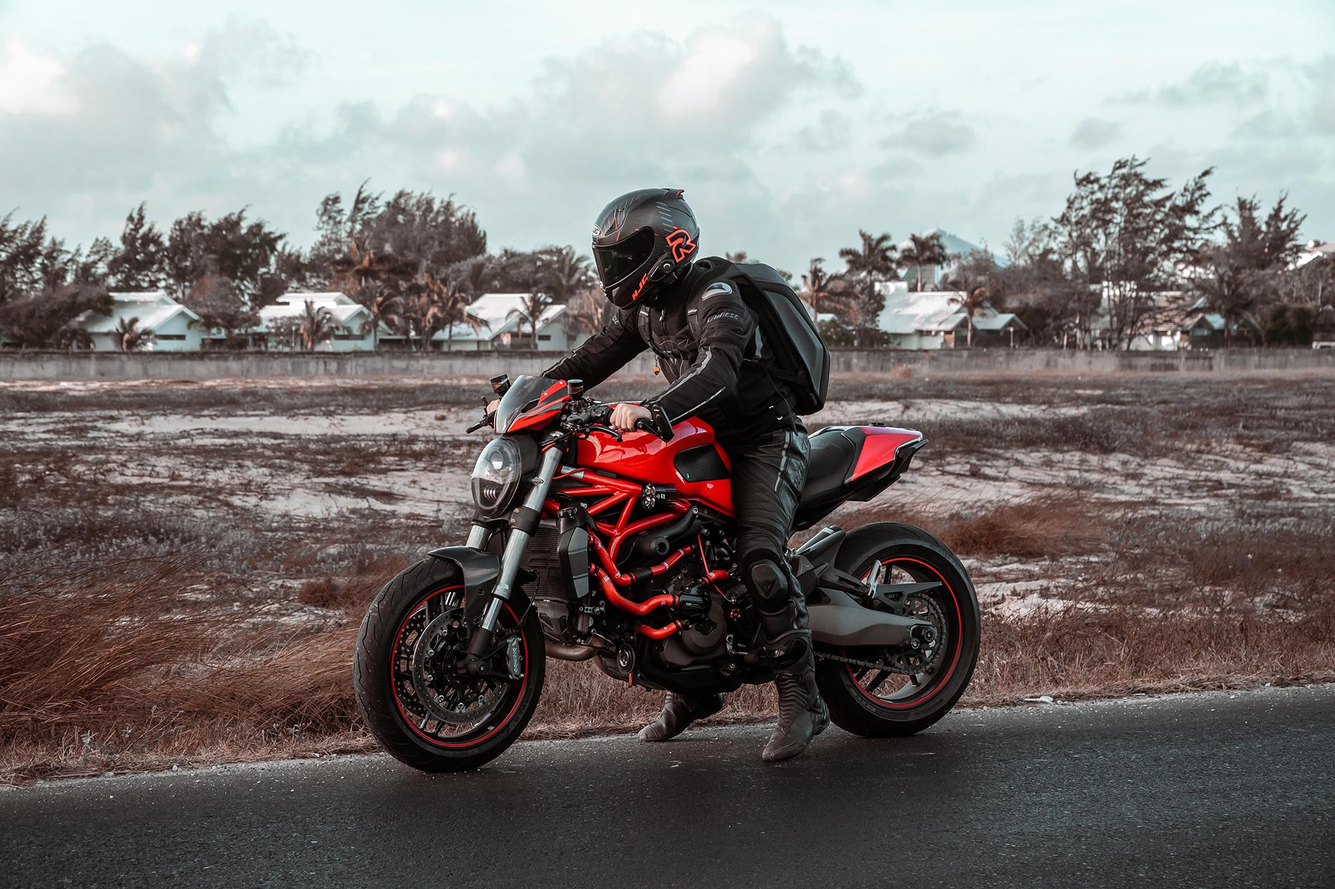helmet: (590, 187, 701, 311)
